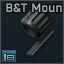MP9 9x19 sound suppressor adapter: (0, 0, 64, 64)
